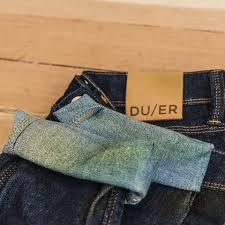earth: (97, 141, 144, 160)
